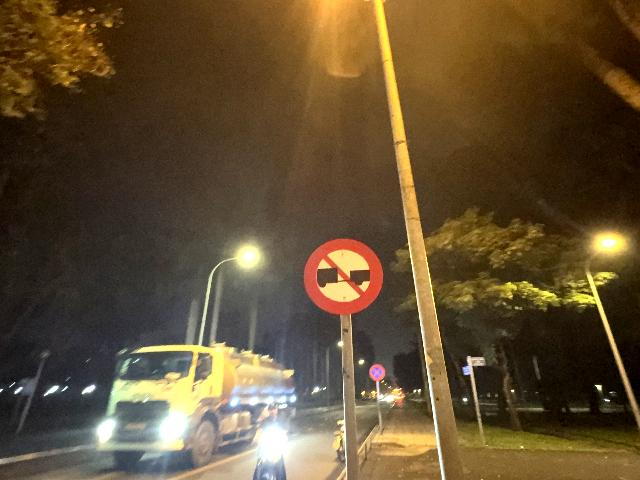cam-xe-somi-romooc: (304, 238, 384, 315)
